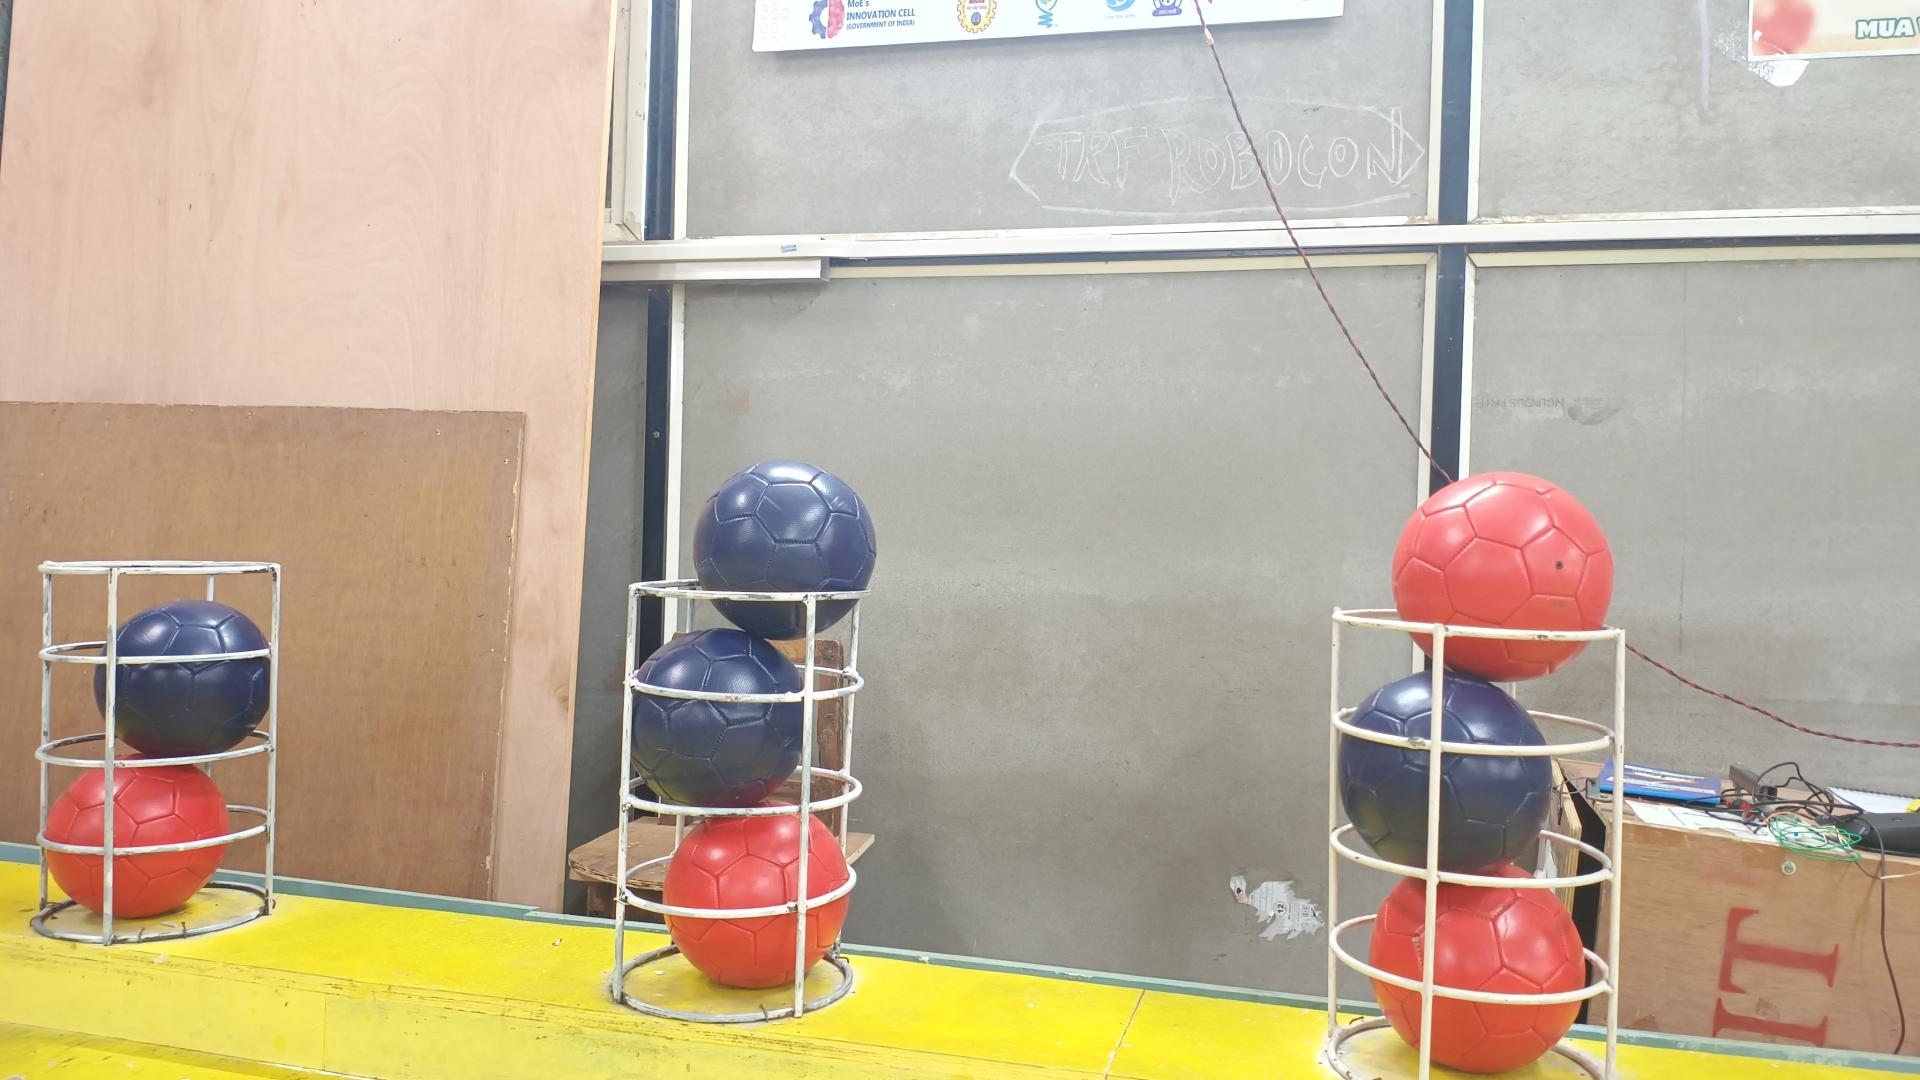dhoka: (1338, 670, 1552, 877), (694, 460, 873, 640), (629, 629, 806, 808), (94, 599, 270, 760)
laale: (1390, 468, 1610, 683), (1366, 860, 1588, 1073), (658, 814, 849, 986), (45, 766, 229, 916)
